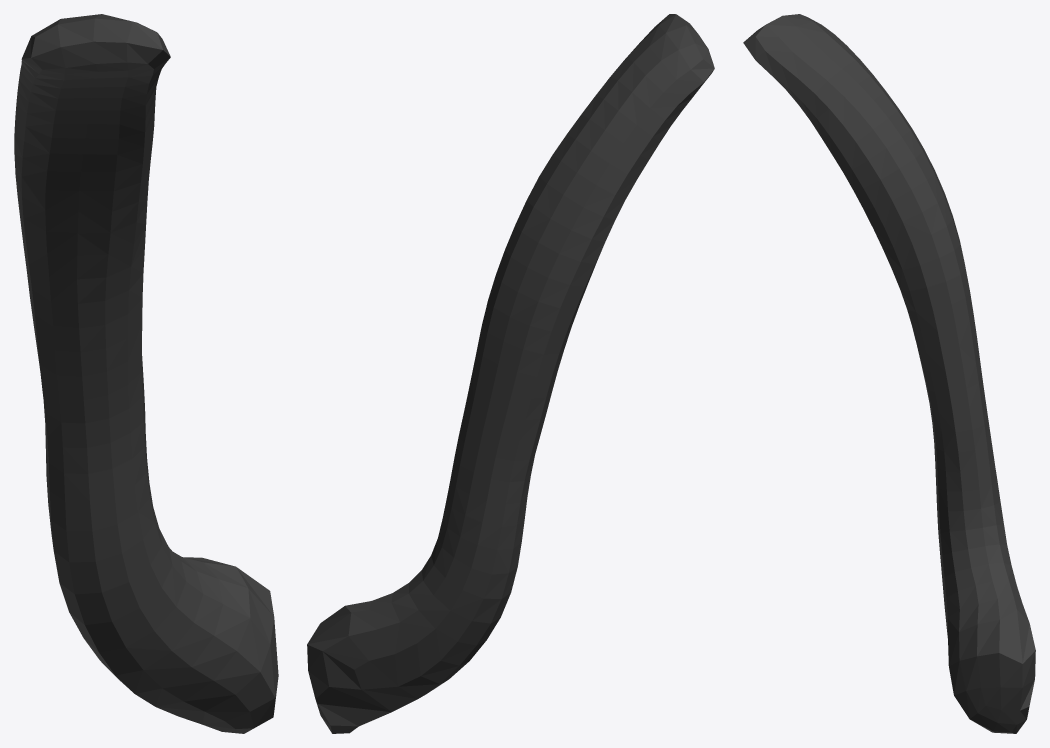
File: Meniscofemoral_lig.glb
The picture shows the model from 3 angles, left to right: view 1: azimuth 30°, elevation 25°; view 2: azimuth 150°, elevation 25°; view 3: azimuth 270°, elevation 25°; orthographic projection. The views are drawn at different scales.
Parts seen in each view (by area): view 1: Meniscofemoral_lig; view 2: Meniscofemoral_lig; view 3: Meniscofemoral_lig.
Part boxes in pixels (bbox=[...]): Meniscofemoral_lig: bbox=[14, 14, 278, 733]; Meniscofemoral_lig: bbox=[307, 14, 714, 733]; Meniscofemoral_lig: bbox=[743, 14, 1035, 733].
Size of the model in its own units: 34.31 by 76.73 by 33.02.
1 material, 1 textured.
